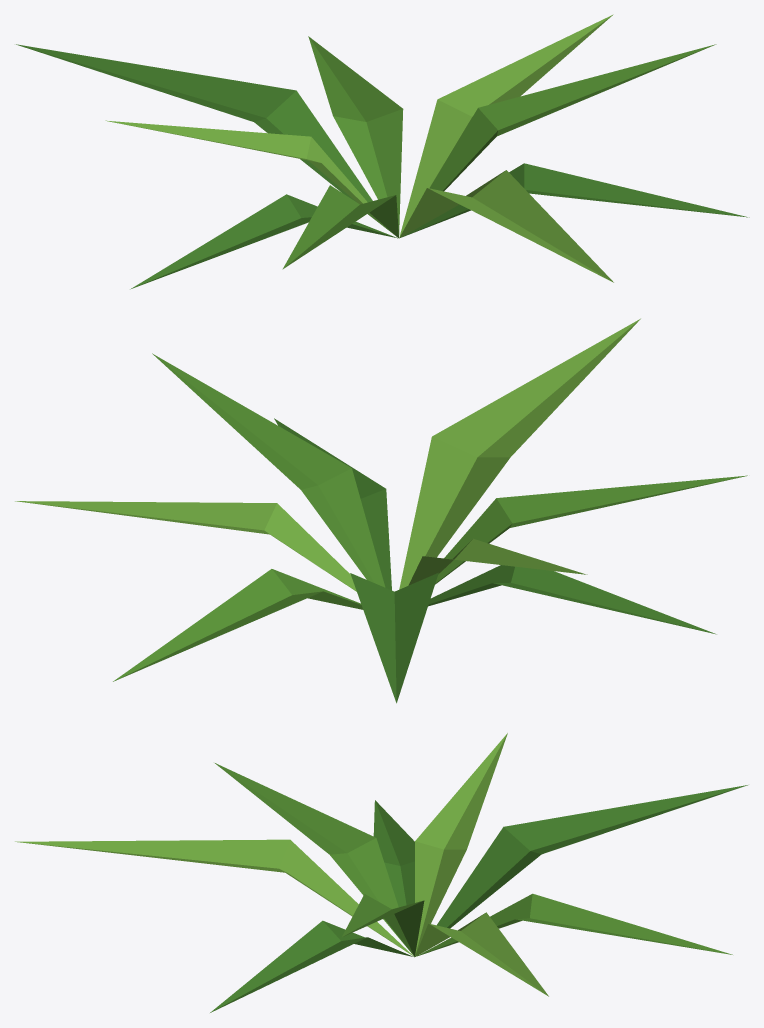
File: cover-fern.glb
3 renders of one model, top to bottom at view 1: azimuth 30°, elevation 25°; view 2: azimuth 150°, elevation 25°; view 3: azimuth 270°, elevation 25°, orthographic. The views are drawn at different scales.
Parts seen in each view (by area): view 1: cover-fern; view 2: cover-fern; view 3: cover-fern.
Part boxes in pixels (<box>): cover-fern: <box>16,14,749,289</box>; cover-fern: <box>15,318,747,703</box>; cover-fern: <box>15,733,747,1012</box>.
Bounding box in the file's own units: 1.21 × 0.3124 × 1.51.
